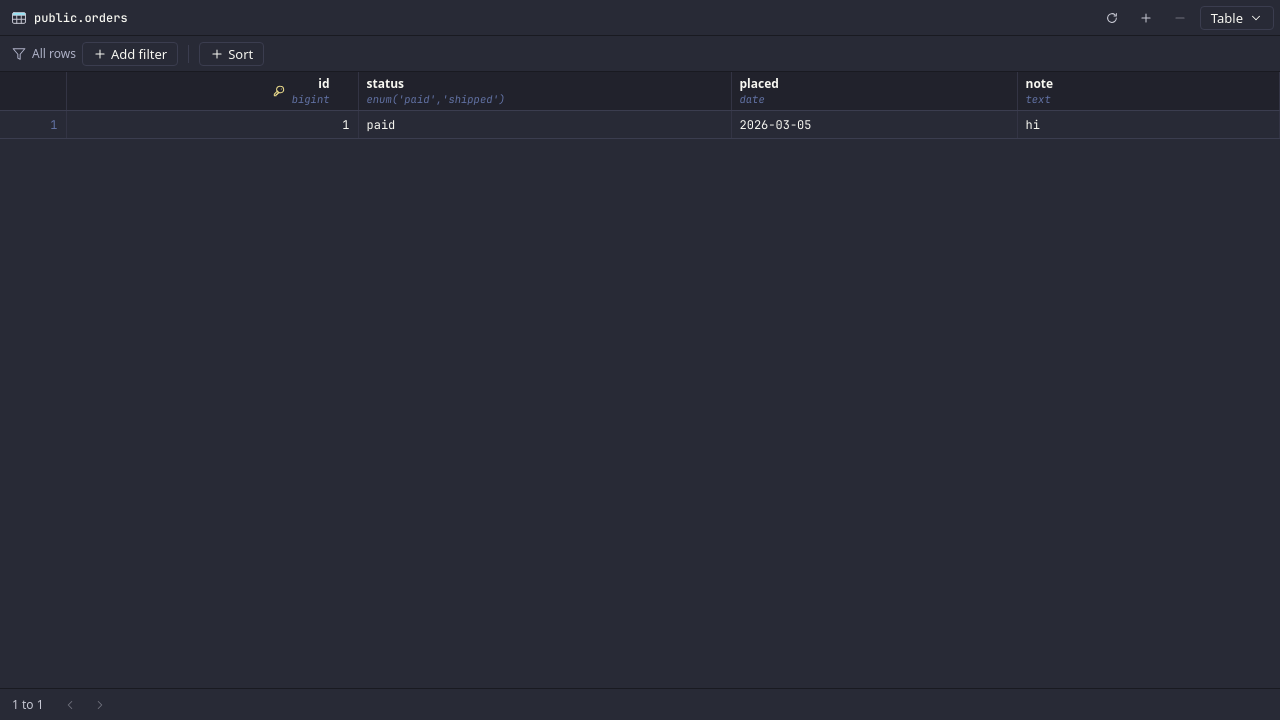
Test: a column that is not nullable has no NULL row; NULL on a nullable one sets the cell to NULL
This screenshot has width=1280, height=720.
Expected: the text "paid" is shown, [366,116,395,132]
Double-click the cell "paid" at (544, 124), box [358,110,731,138]
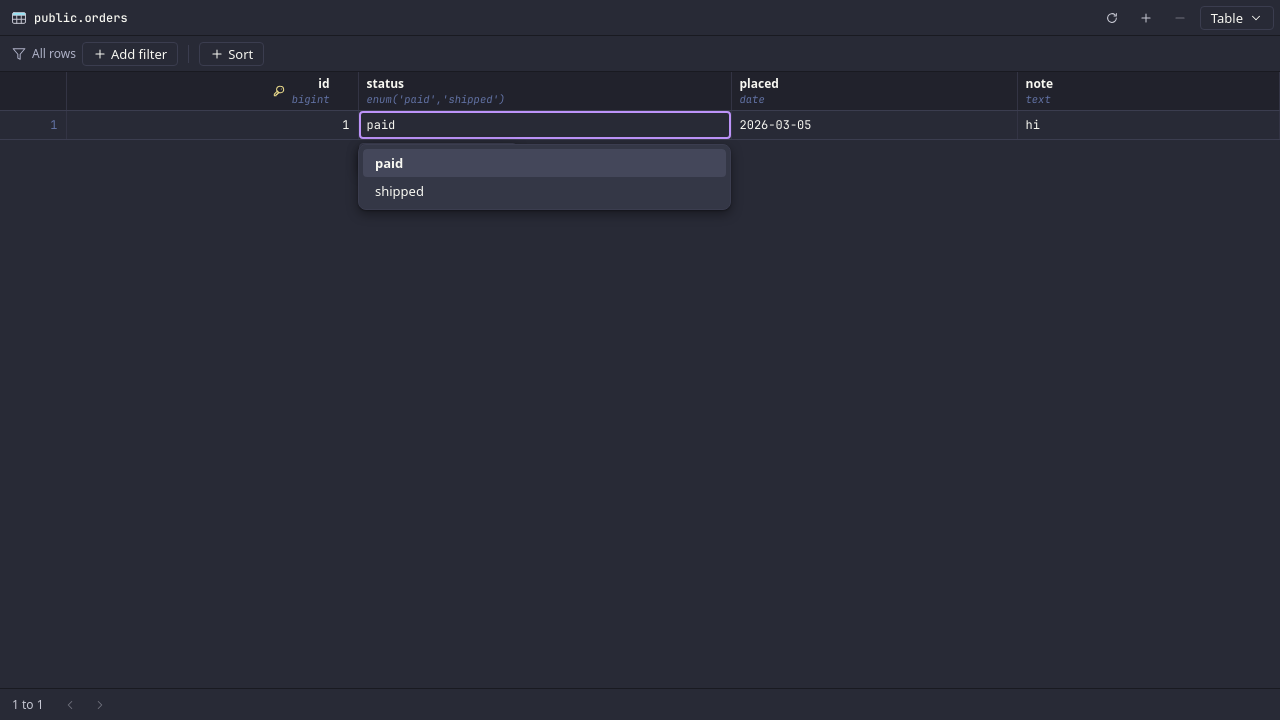
Now the options read "paid", "shipped", in this order, box [363,148,726,176]; [375,182,424,200]
